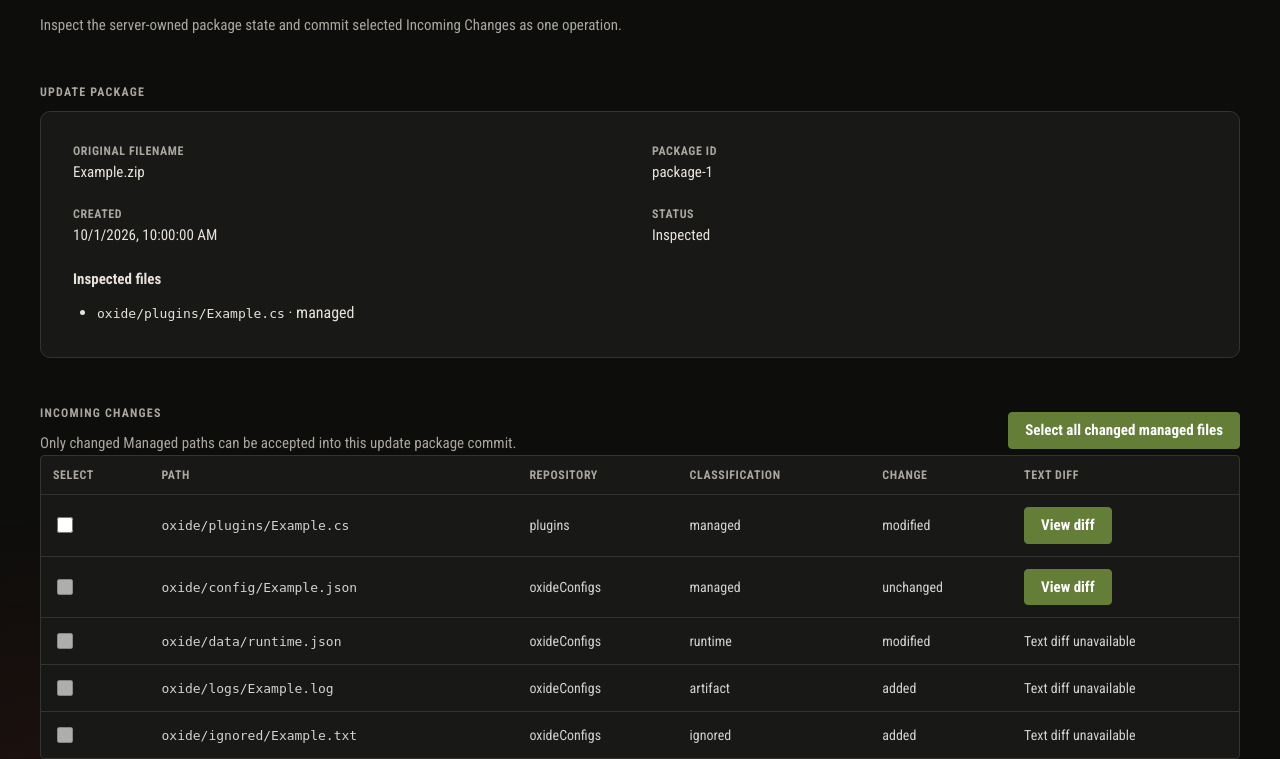
Test: Plugins Updates › commits exactly selected paths with current heads and presents multiple repository commits
This screenshot has width=1280, height=759.
Click the button "Select all changed managed files": click(1124, 431) top-left (1008, 412), bottom-right (1240, 449)
(page scrolled)
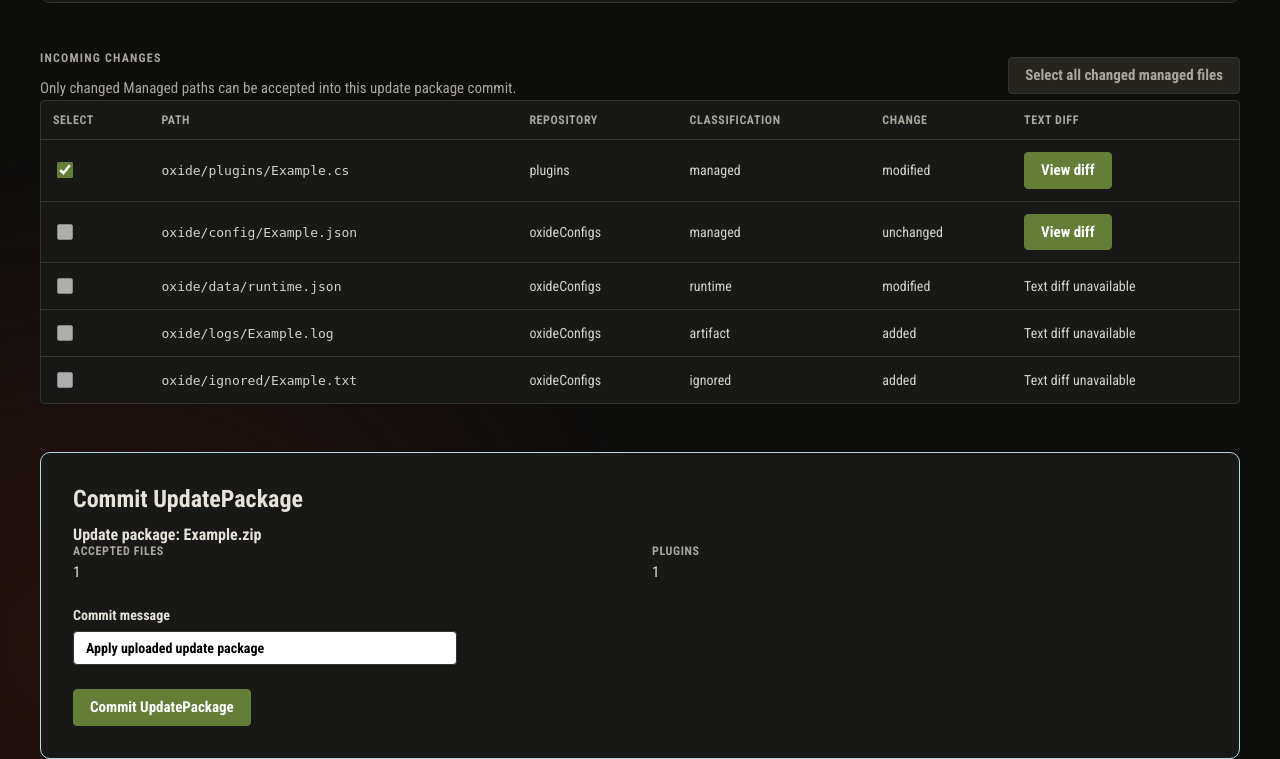
Replace the text in the field labelled "Commit message" with "Apply Example update": (265, 648) top-left (73, 631), bottom-right (457, 665)
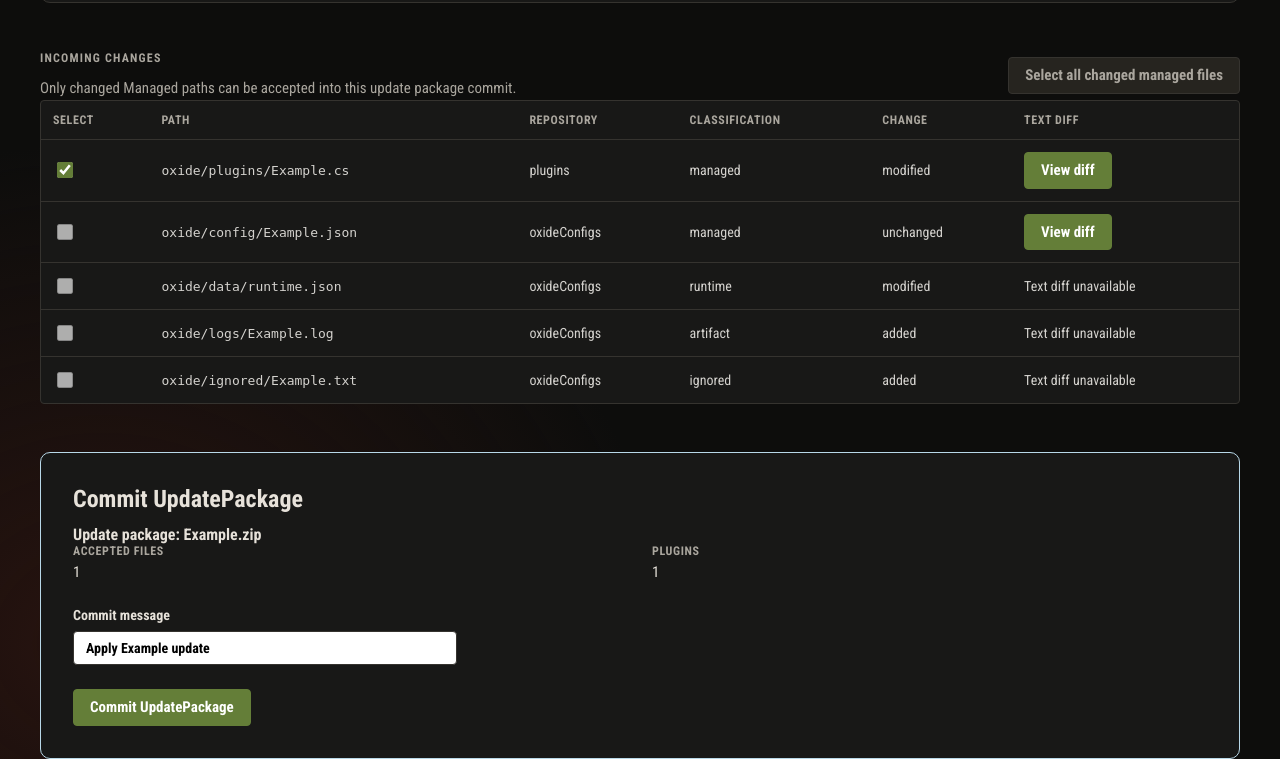
Click the button "Commit UpdatePackage": click(162, 708) top-left (73, 689), bottom-right (251, 726)
(page scrolled)
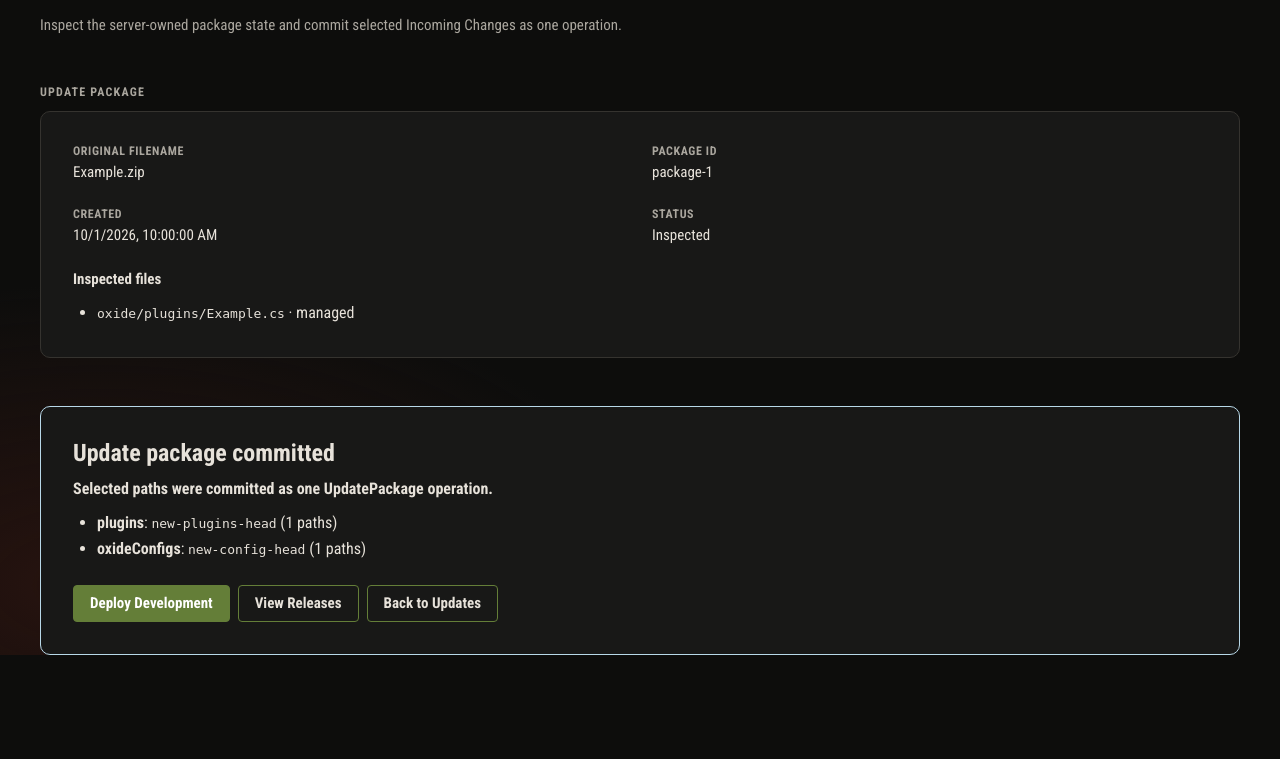
Now the heading "Update package committed" is shown, box top-left (73, 439), bottom-right (335, 467)
Now the text "new-plugins-head" is shown, box top-left (152, 516), bottom-right (277, 531)
Now the text "new-config-head" is shown, box top-left (188, 542), bottom-right (305, 557)
